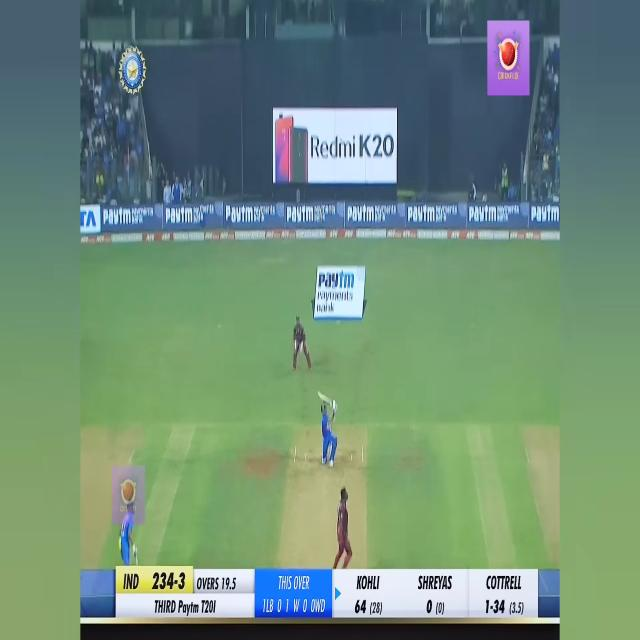fully_visible: (318, 265, 356, 290), (348, 201, 376, 228), (284, 203, 314, 226), (176, 595, 202, 621), (165, 204, 192, 228), (226, 205, 253, 229), (469, 202, 496, 226), (407, 203, 436, 225), (103, 205, 131, 226)
